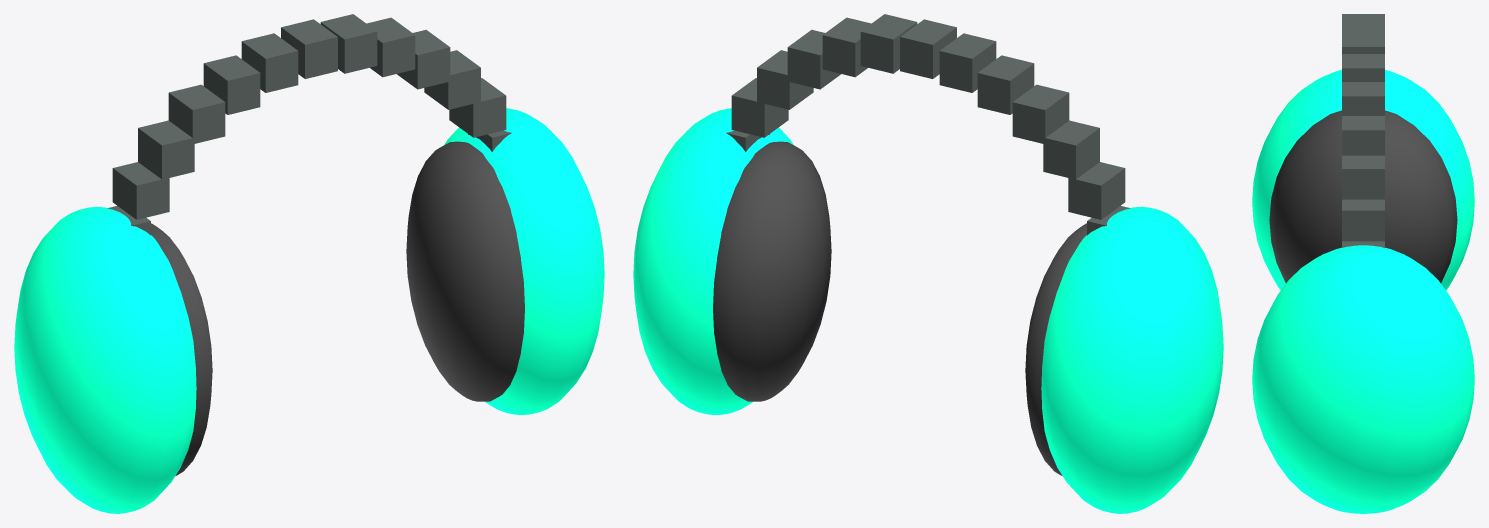
The model's file is protetor.glb.
3 renders of one model, left to right at view 1: azimuth 30°, elevation 25°; view 2: azimuth 150°, elevation 25°; view 3: azimuth 270°, elevation 25°, orthographic. The views are drawn at different scales.
Visible parts, largest first — view 1: CupLeft_node, CushionR_node, CupRight_node, CushionL_node, Arch_4_node, Arch_5_node, Arch_3_node, Arch_6_node, Arch_7_node, Arch_8_node, Arch_9_node, Arch_10_node (+3 smaller); view 2: CupLeft_node, CushionR_node, CupRight_node, CushionL_node, Arch_4_node, Arch_5_node, Arch_3_node, Arch_6_node, Arch_7_node, Arch_8_node, Arch_9_node, Arch_10_node (+3 smaller); view 3: CupRight_node, CushionL_node, CupLeft_node, Arch_12_node, Arch_13_node, Arch_11_node, Arch_10_node, Arch_9_node, Arch_8_node, Arch_7_node.
Part boxes in pixels (<box>): CupLeft_node: <box>14,206,196,513</box>; CushionR_node: <box>406,141,524,401</box>; CupRight_node: <box>444,108,604,415</box>; CushionL_node: <box>151,223,212,475</box>; Arch_4_node: <box>138,120,194,179</box>; Arch_5_node: <box>168,84,225,143</box>; Arch_3_node: <box>112,162,169,219</box>; Arch_6_node: <box>203,55,260,114</box>; Arch_7_node: <box>241,33,298,92</box>; Arch_8_node: <box>281,19,337,78</box>; Arch_9_node: <box>320,14,377,73</box>; Arch_10_node: <box>366,17,415,77</box>; CupLeft_node: <box>1041,206,1223,513</box>; CushionR_node: <box>713,141,831,401</box>; CupRight_node: <box>633,108,793,415</box>; CushionL_node: <box>1025,223,1086,475</box>; Arch_4_node: <box>1043,120,1099,179</box>; Arch_5_node: <box>1012,84,1069,144</box>; Arch_3_node: <box>1068,162,1125,219</box>; Arch_6_node: <box>977,55,1034,114</box>; Arch_7_node: <box>939,33,996,92</box>; Arch_8_node: <box>900,19,956,78</box>; Arch_9_node: <box>860,14,917,73</box>; Arch_10_node: <box>822,17,871,77</box>; CupRight_node: <box>1252,245,1474,513</box>; CushionL_node: <box>1269,110,1457,283</box>; CupLeft_node: <box>1252,70,1474,290</box>; Arch_12_node: <box>1342,155,1384,199</box>; Arch_13_node: <box>1342,199,1384,241</box>; Arch_11_node: <box>1342,116,1384,155</box>; Arch_10_node: <box>1342,82,1384,115</box>; Arch_9_node: <box>1342,54,1384,81</box>; Arch_8_node: <box>1342,32,1384,53</box>; Arch_7_node: <box>1342,19,1384,32</box>.
Size of the model in its own units: 0.914 by 0.6815 by 0.36.
